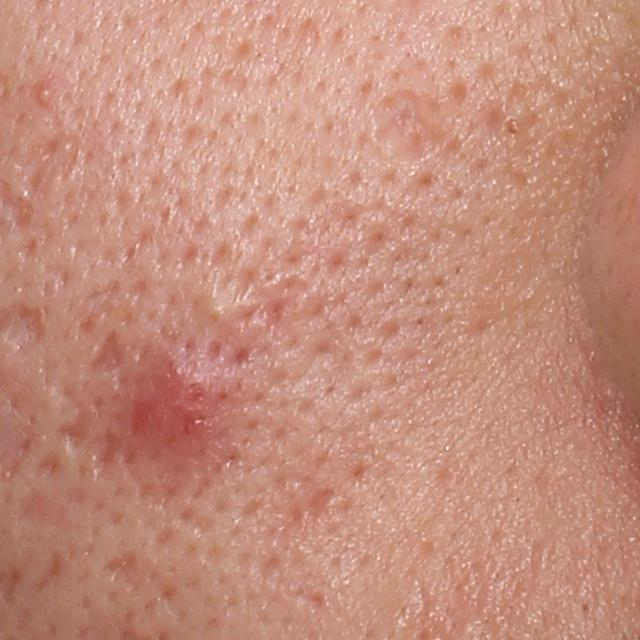atrophic_scar: (121, 415, 205, 510), (370, 86, 457, 171), (12, 490, 79, 529), (97, 546, 144, 601), (84, 425, 127, 479), (84, 328, 131, 376), (55, 403, 95, 457), (30, 546, 66, 593), (299, 480, 337, 522)
comedo: (498, 112, 526, 142)
hypertrophic_scar: (193, 287, 242, 332)
papule: (156, 367, 216, 436)
pustule: (35, 83, 58, 105)
